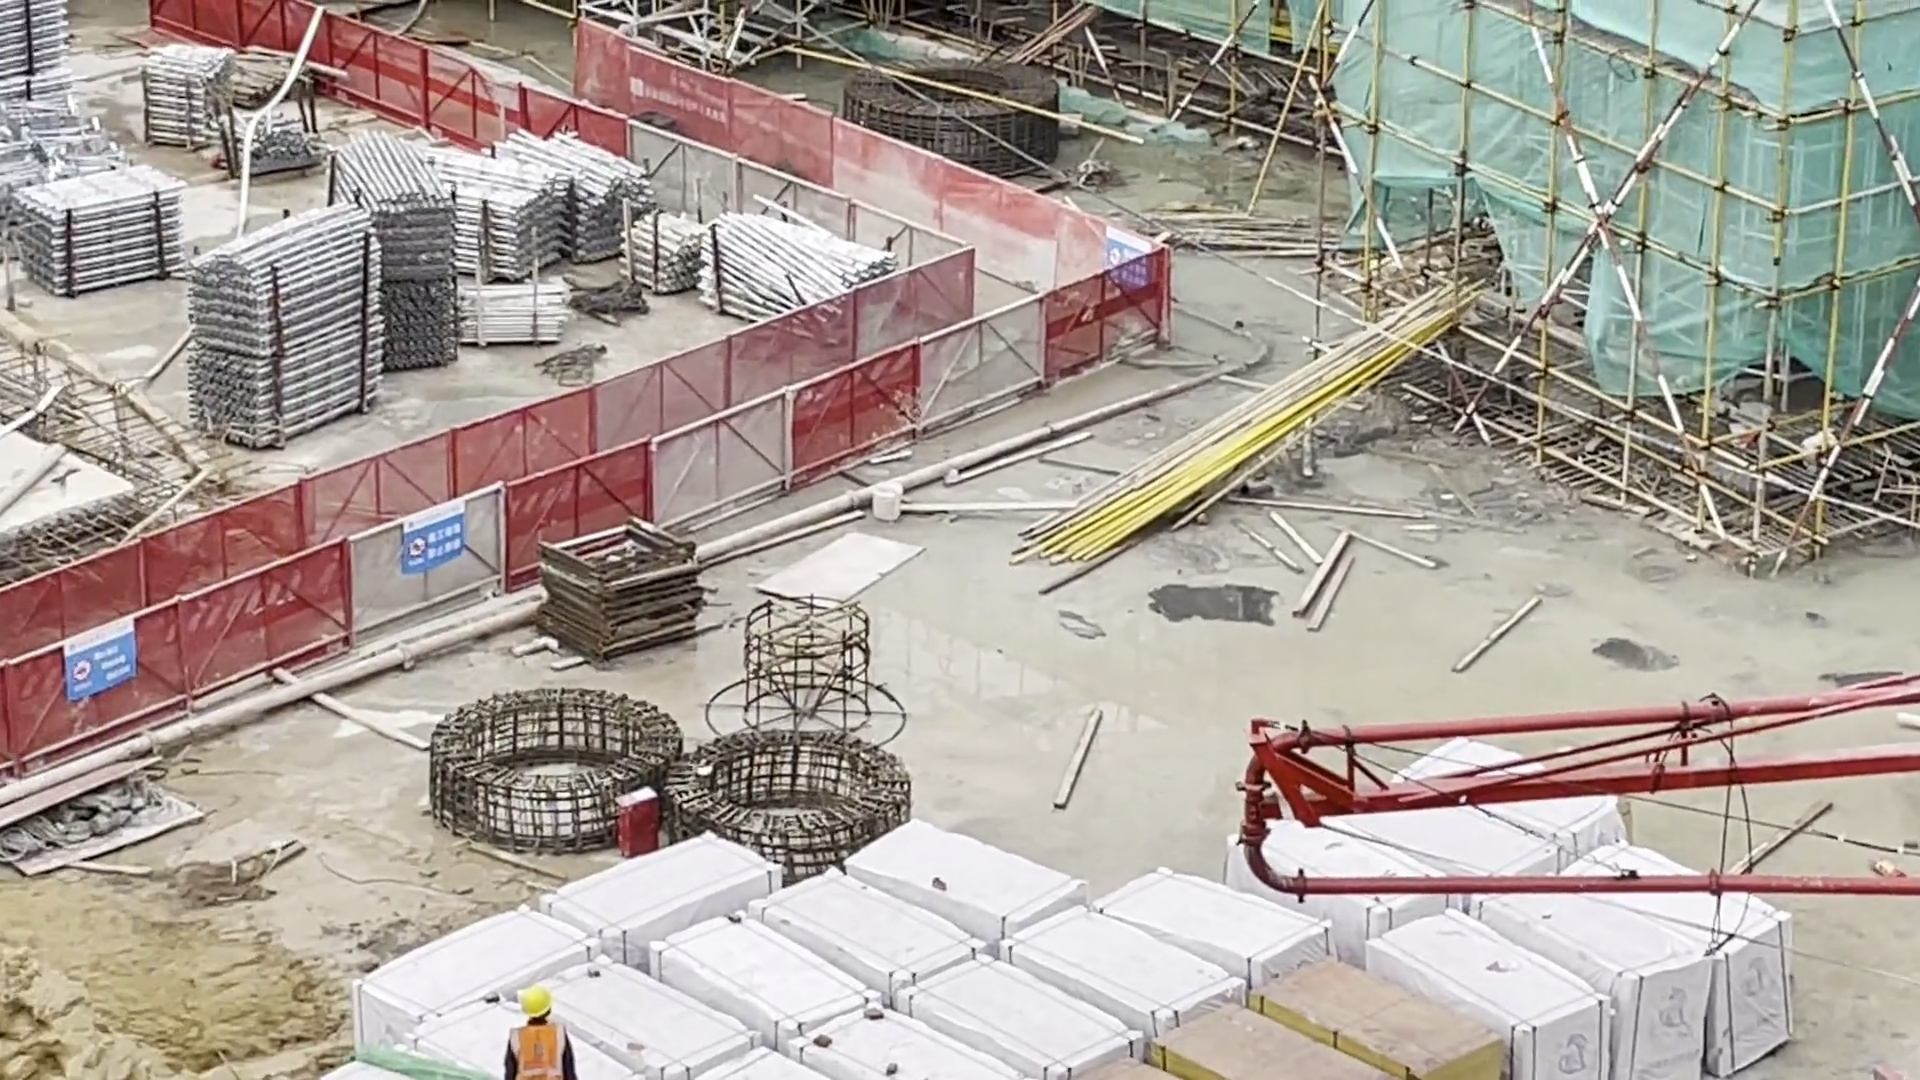board: (1077, 957, 1512, 1080)
person: (499, 980, 580, 1080)
scaffold: (189, 204, 383, 450), (329, 134, 455, 369), (700, 211, 898, 349), (15, 164, 183, 297), (505, 131, 651, 262), (456, 151, 567, 282), (141, 41, 238, 149), (463, 279, 568, 347), (627, 213, 704, 297), (1, 1, 71, 88)
slogan: (67, 618, 135, 702), (404, 500, 465, 573), (1105, 227, 1152, 286)
vest: (510, 1025, 566, 1080)
